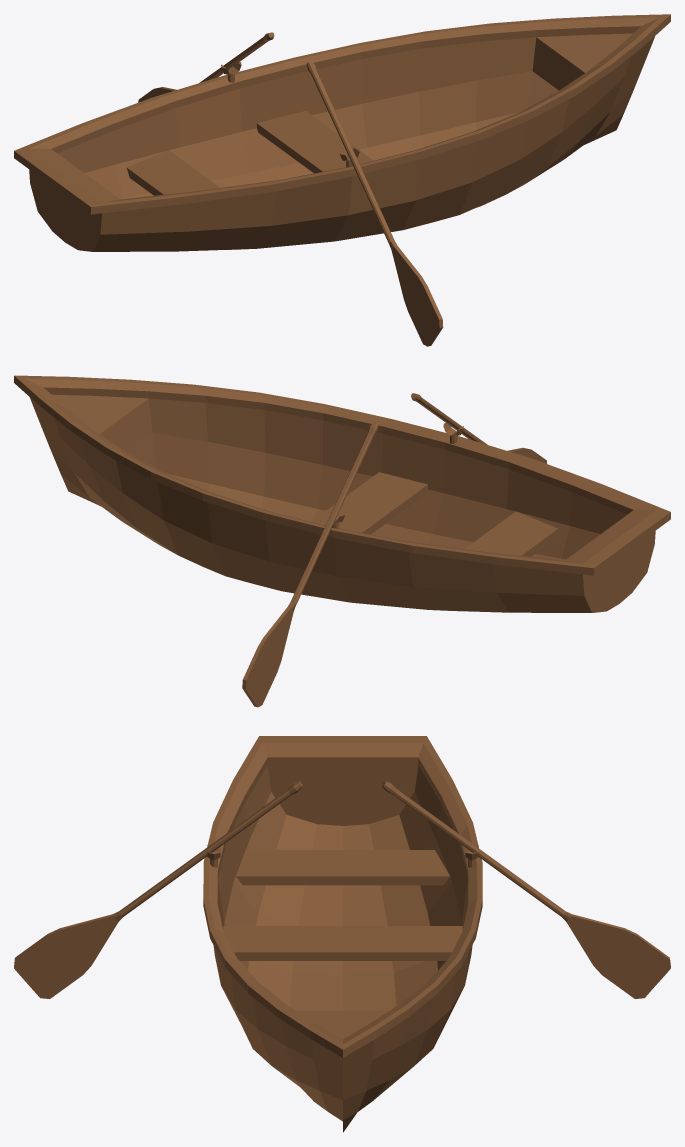
File: rowboat-compressed.glb
3 renders of one model, top to bottom at view 1: azimuth 30°, elevation 25°; view 2: azimuth 150°, elevation 25°; view 3: azimuth 270°, elevation 25°, orthographic. The views are drawn at different scales.
Parts seen in each view (by area): view 1: rowboat; view 2: rowboat; view 3: rowboat.
Boxes of the visible parts, left/top/right/bottom form: rowboat: left=14, top=14, right=670, bottom=346; rowboat: left=14, top=375, right=670, bottom=707; rowboat: left=14, top=736, right=670, bottom=1132.
Size of the model in its own units: 3.39 by 1.04 by 2.86.
